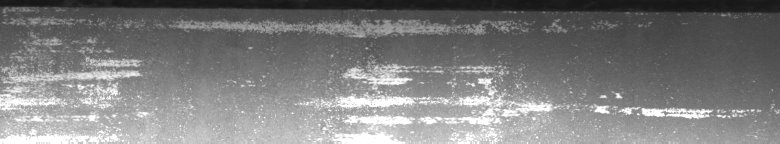kb: (4, 4, 776, 123)
